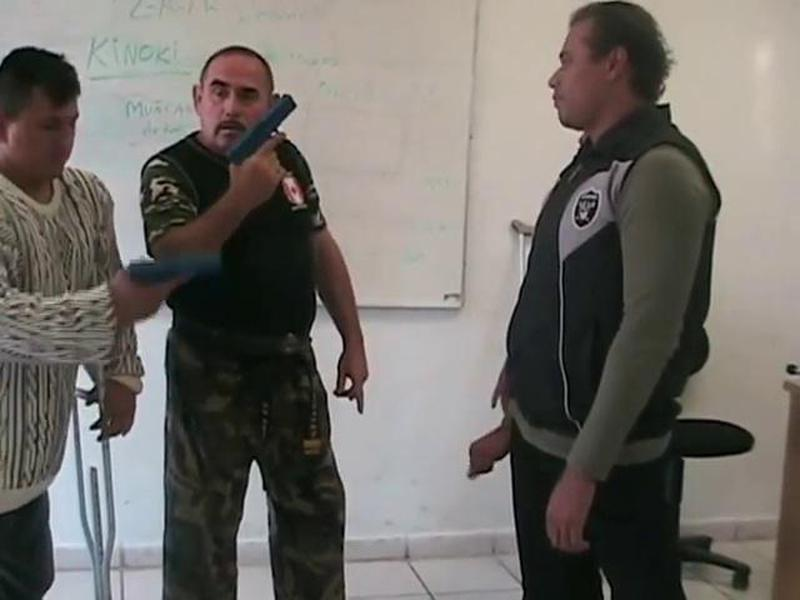Pistola: (89, 234, 231, 324), (215, 82, 319, 195)
